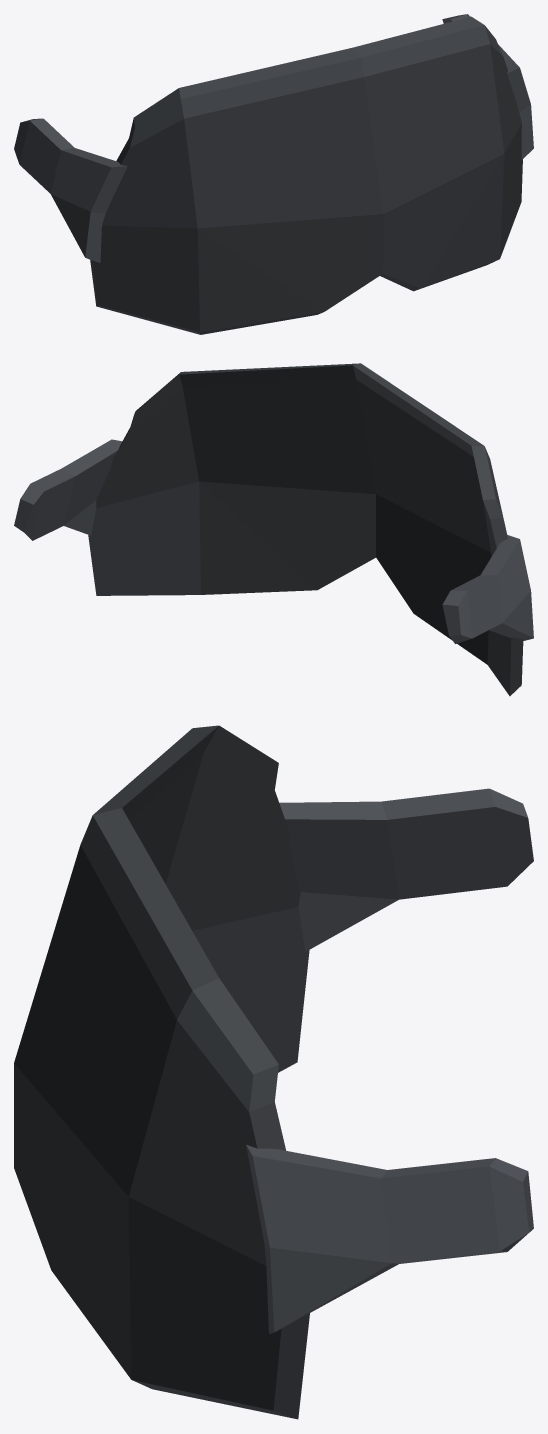
File: SM_Chr_Attach_Helmet_10_Visor.fbx
3 views of the same model, one above another, from view 1: azimuth 30°, elevation 25°; view 2: azimuth 150°, elevation 25°; view 3: azimuth 270°, elevation 25° (orthographic). The views are drawn at different scales.
Parts seen in each view (by area): view 1: SM_Chr_Attach_Helmet_10_Visor; view 2: SM_Chr_Attach_Helmet_10_Visor; view 3: SM_Chr_Attach_Helmet_10_Visor.
Part boxes in pixels (box(x1,y1,x2,y2)): SM_Chr_Attach_Helmet_10_Visor: box(14, 14, 533, 334); SM_Chr_Attach_Helmet_10_Visor: box(14, 363, 533, 696); SM_Chr_Attach_Helmet_10_Visor: box(14, 725, 533, 1419).
Bounding box in the file's own units: 30.23 × 16.49 × 16.99.
